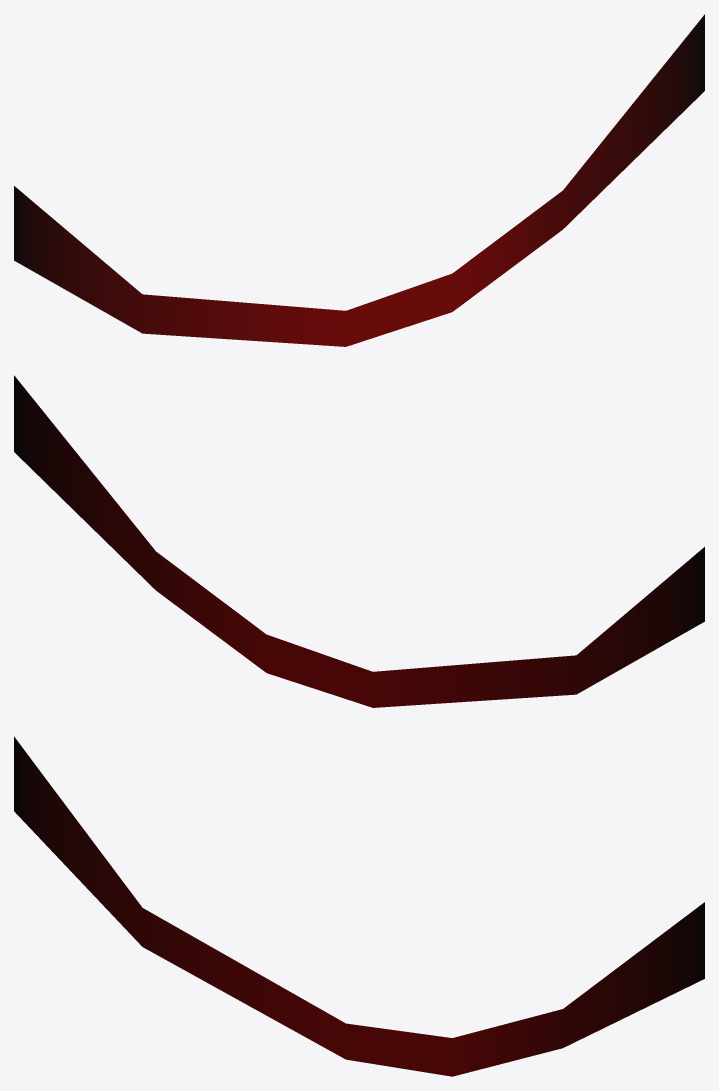
The model's file is SM_Env_Spiderweb_05.fbx.
The picture shows the model from 3 angles, top to bottom: view 1: azimuth 30°, elevation 25°; view 2: azimuth 150°, elevation 25°; view 3: azimuth 330°, elevation 25°; orthographic projection.
Parts seen in each view (by area): view 1: SM_Env_Spiderweb_05; view 2: SM_Env_Spiderweb_05; view 3: SM_Env_Spiderweb_05.
Boxes of the visible parts, x1,y1,x2,y2 form: SM_Env_Spiderweb_05: (14, 14, 704, 346); SM_Env_Spiderweb_05: (14, 375, 704, 707); SM_Env_Spiderweb_05: (14, 736, 704, 1076).
Bounding box in the file's own units: 187 × 63.59 × 4.8e-06.
